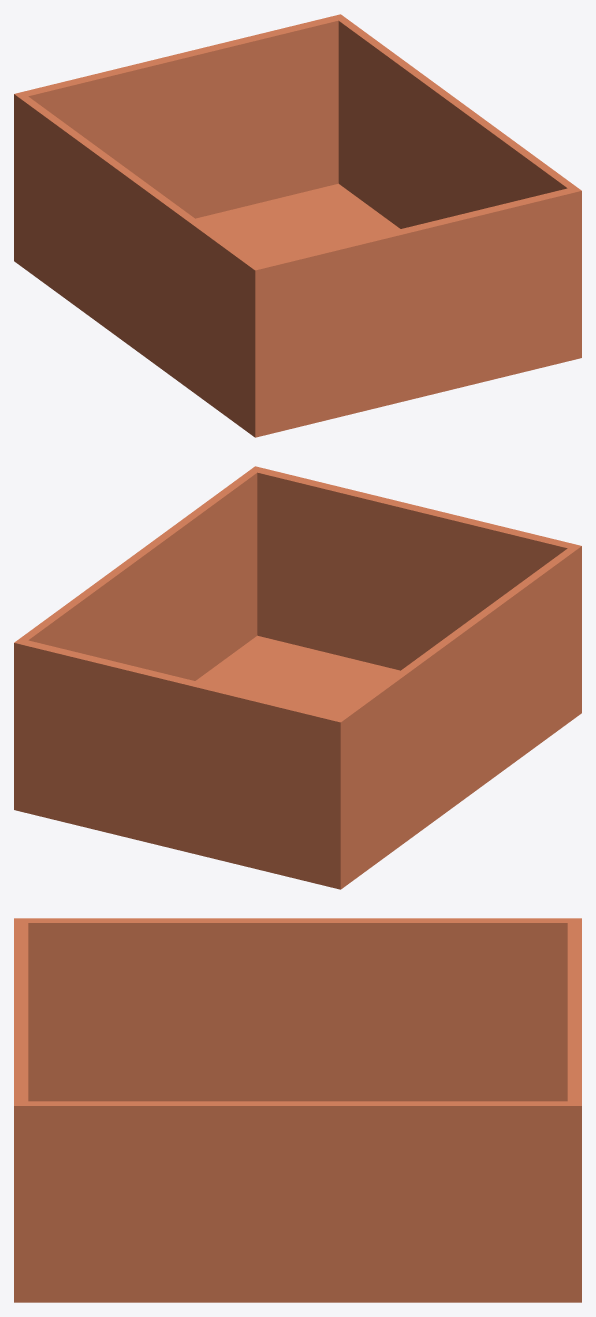
File: drawer inner shelf.fbx
The picture shows the model from 3 angles, top to bottom: view 1: azimuth 30°, elevation 25°; view 2: azimuth 150°, elevation 25°; view 3: azimuth 270°, elevation 25°; orthographic projection. The views are drawn at different scales.
Visible parts, largest first — view 1: innerdrawer; view 2: innerdrawer; view 3: innerdrawer.
Part boxes in pixels (x1,y1,x2,y2): innerdrawer: (14,14,581,437); innerdrawer: (14,466,581,889); innerdrawer: (14,918,581,1302).
Size of the model in its own units: 145 by 71.07 by 186.
